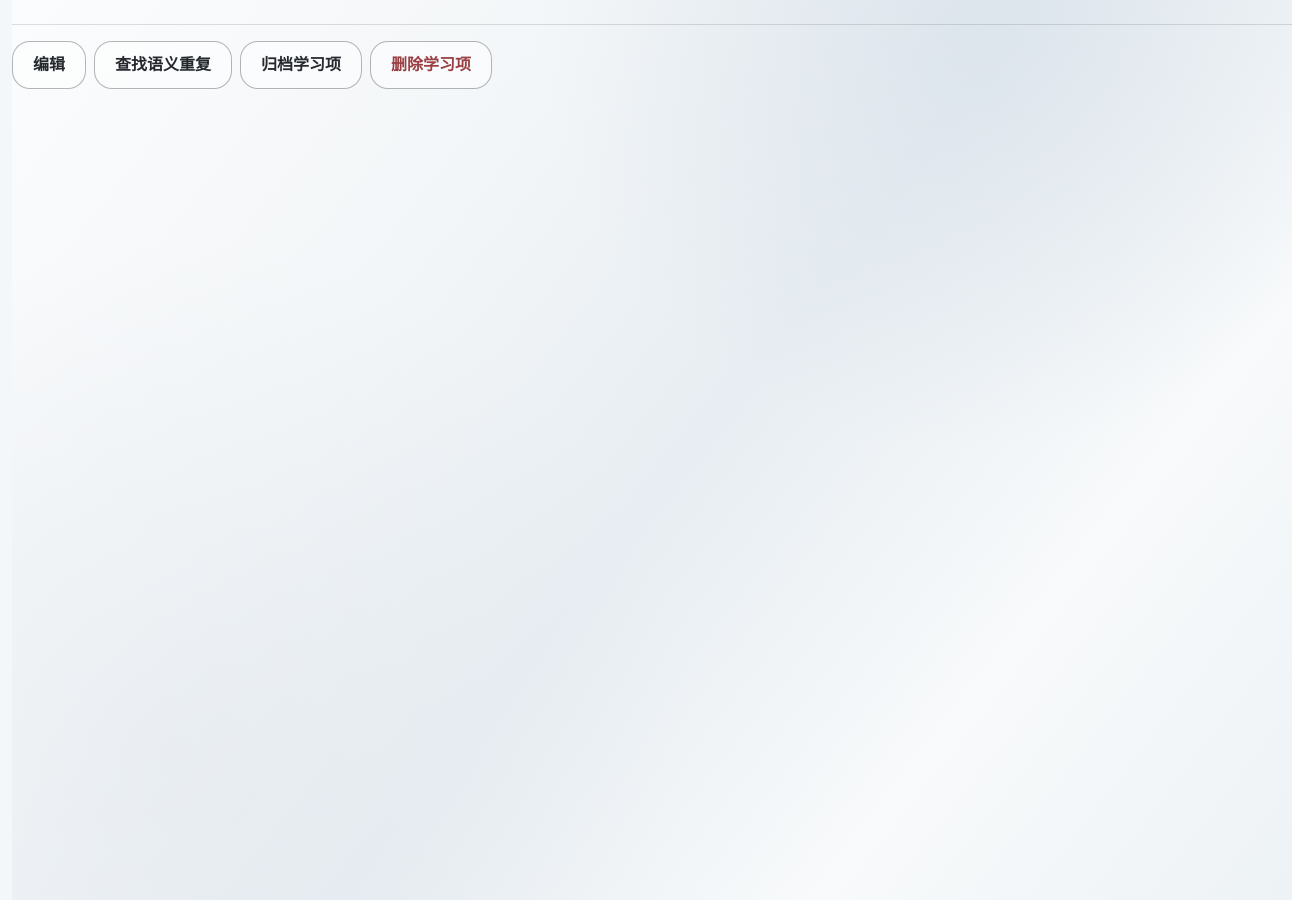
Test: learning item maintenance panel › keeps the detail and prior suggestions after failure, then retries only on a new click and key
The image size is (1292, 900).
Click the button "查找语义重复" at (163, 65), box [94,41,232,89]
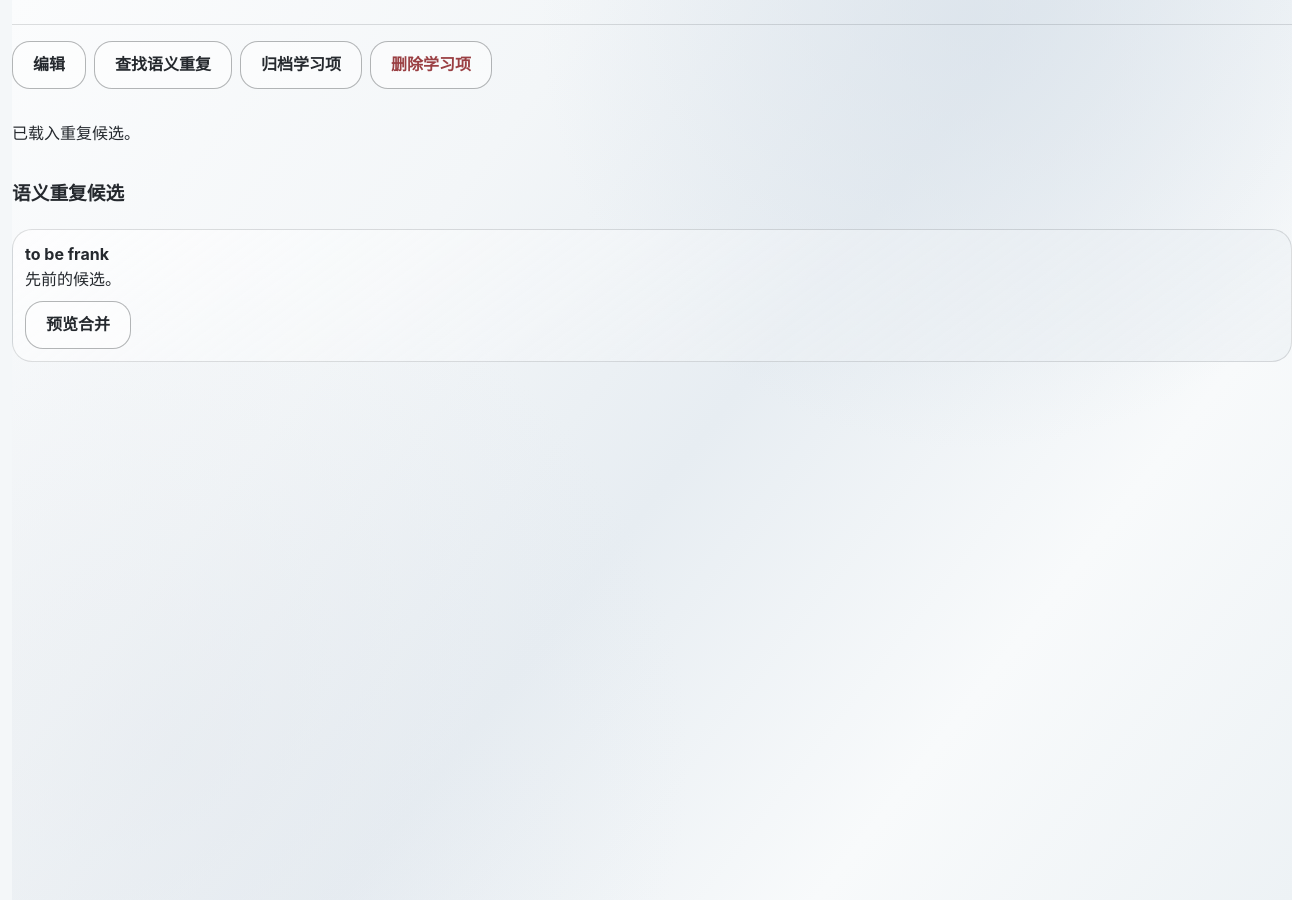
Expected: the text "先前的候选" is shown, [25,269,121,289]
Click the button "查找语义重复" at (163, 65), box [94,41,232,89]
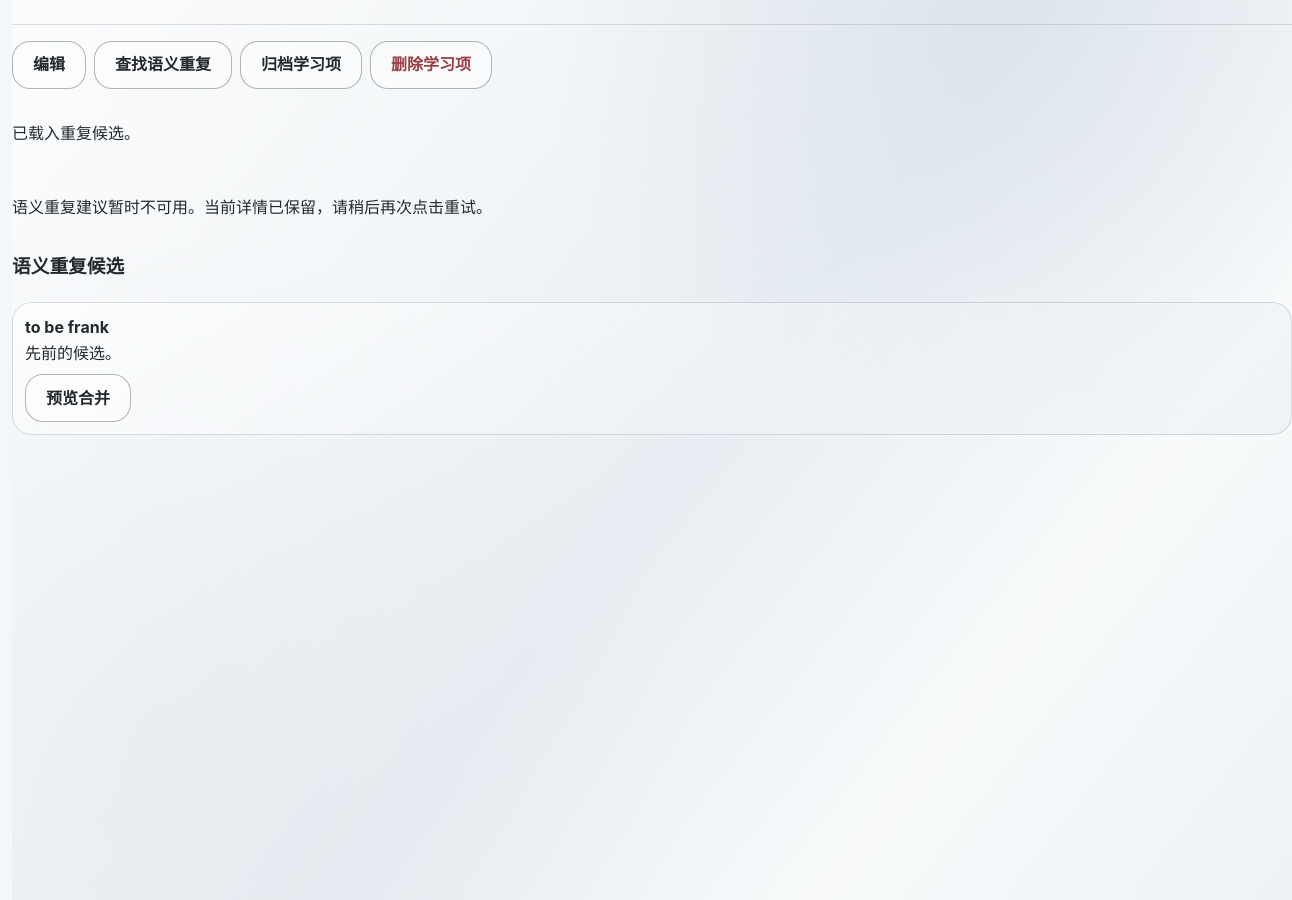
Expected: the text "to be frank" is shown, [25,317,109,337]
Expected: the text "先前的候选" is shown, [25,343,121,363]
Expected: the message "语义重复建议暂时不可用。当前详情已保留，请稍后再次点击重试。" is shown, [12,197,492,217]
